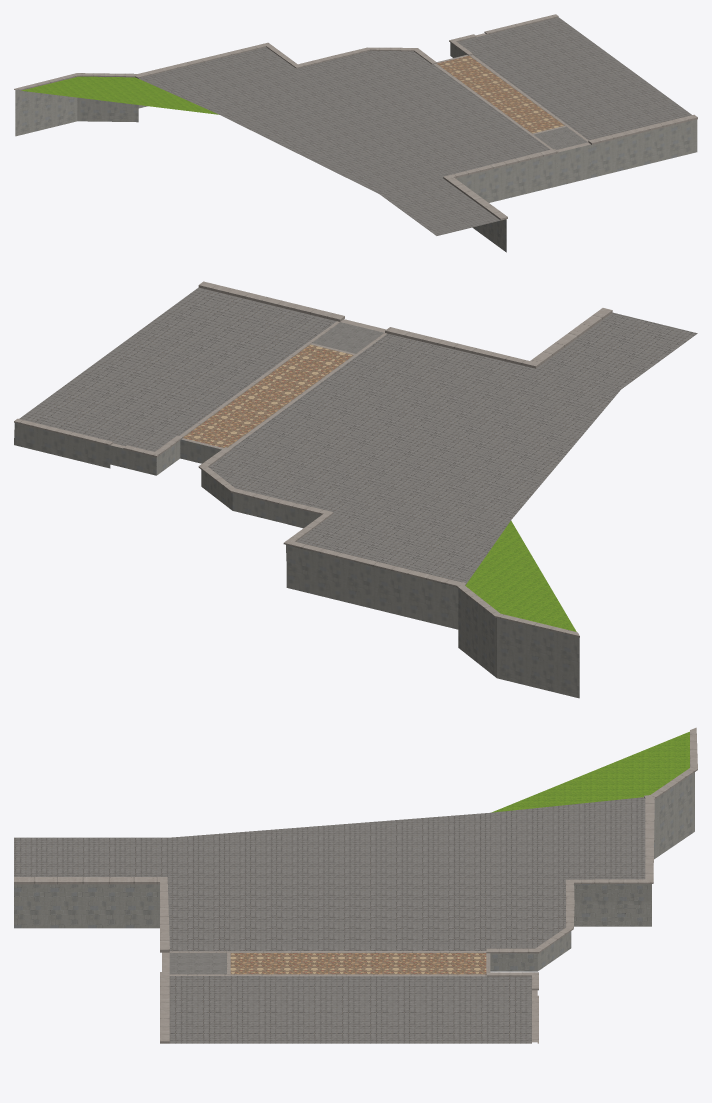
Rendered from TownGroundTile_A.fbx.
The picture shows the model from 3 angles, top to bottom: view 1: azimuth 30°, elevation 25°; view 2: azimuth 150°, elevation 25°; view 3: azimuth 270°, elevation 25°; orthographic projection. The views are drawn at different scales.
Parts seen in each view (by area): view 1: TownGroundTile_A; view 2: TownGroundTile_A; view 3: TownGroundTile_A.
Boxes of the visible parts, x1,y1,x2,y2 form: TownGroundTile_A: (14,14,697,252); TownGroundTile_A: (14,281,697,698); TownGroundTile_A: (14,727,697,1043).
Bounding box in the file's own units: 17419 × 1657 × 15979.
6 materials, 6 textured.
